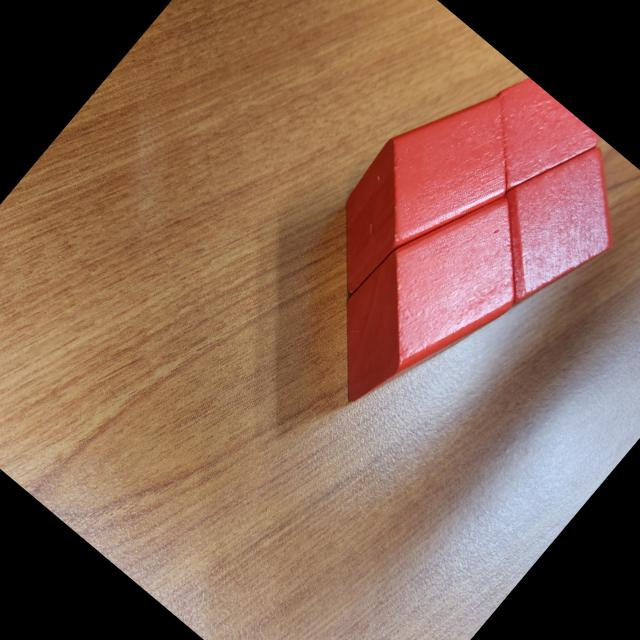red: (296, 162, 563, 444), (294, 59, 551, 332), (453, 120, 640, 330), (452, 68, 602, 218)
